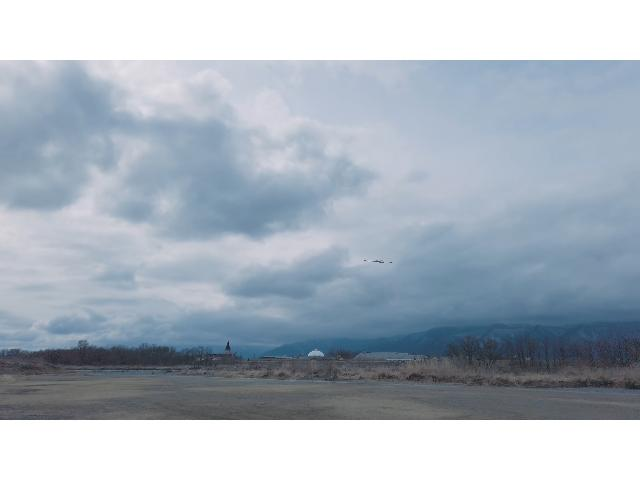Anti-Drone: (360, 254, 396, 268)
